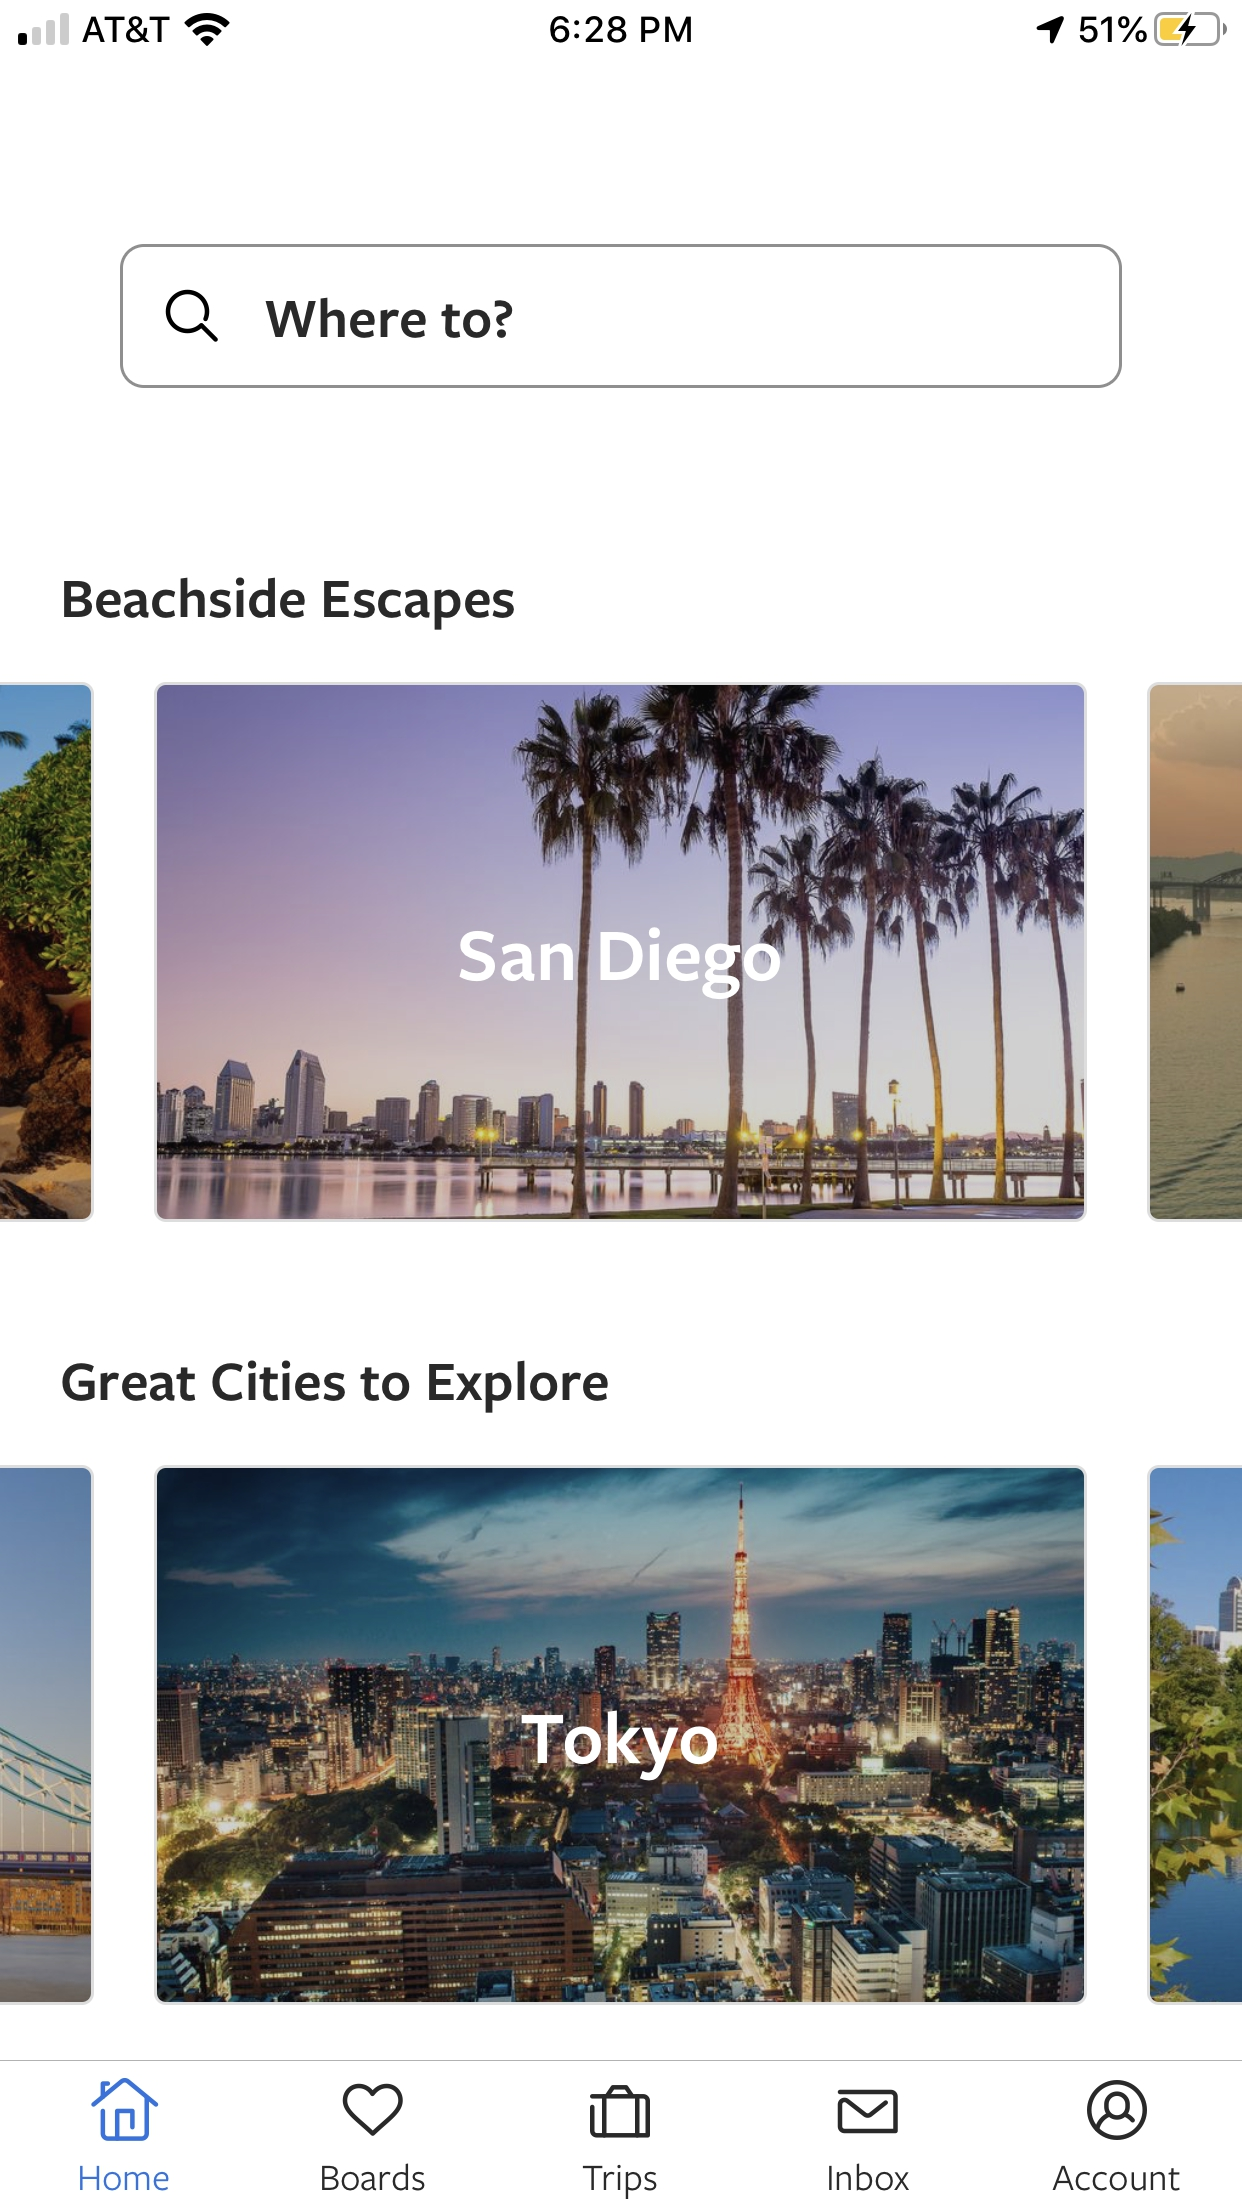EditText: (120, 244, 1122, 390)
Icon: (93, 2078, 161, 2141), (1086, 2081, 1146, 2140), (590, 2084, 651, 2138), (343, 2084, 403, 2137), (165, 290, 218, 343), (837, 2090, 898, 2134)
Image: (155, 682, 1087, 1222), (155, 1466, 1087, 2005), (1146, 1465, 1242, 2005), (1146, 682, 1242, 1222), (2, 1465, 96, 2005), (2, 682, 96, 1222)
Text: (64, 1360, 610, 1413), (65, 576, 516, 631), (459, 927, 781, 999), (520, 1709, 717, 1780), (265, 300, 513, 340), (1052, 2166, 1180, 2191), (323, 2163, 426, 2191), (582, 2164, 657, 2199), (80, 2166, 170, 2191), (830, 2164, 910, 2191)
UpperTaskBar: (2, 2, 1240, 49)
